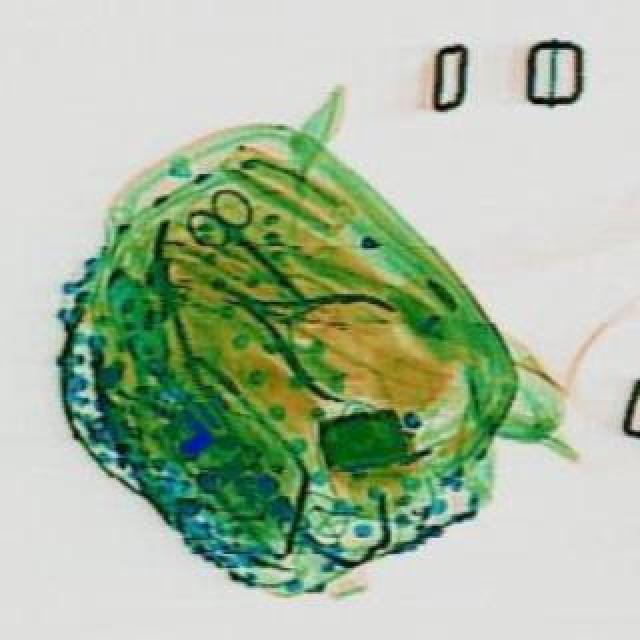pliers: (180, 182, 336, 326)
wrench: (202, 248, 402, 412)
